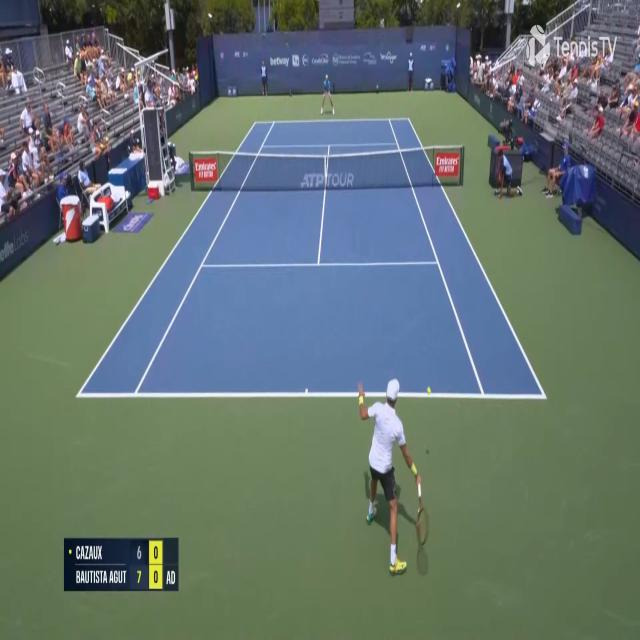tennis-player: (356, 374, 433, 575), (319, 74, 336, 116)
